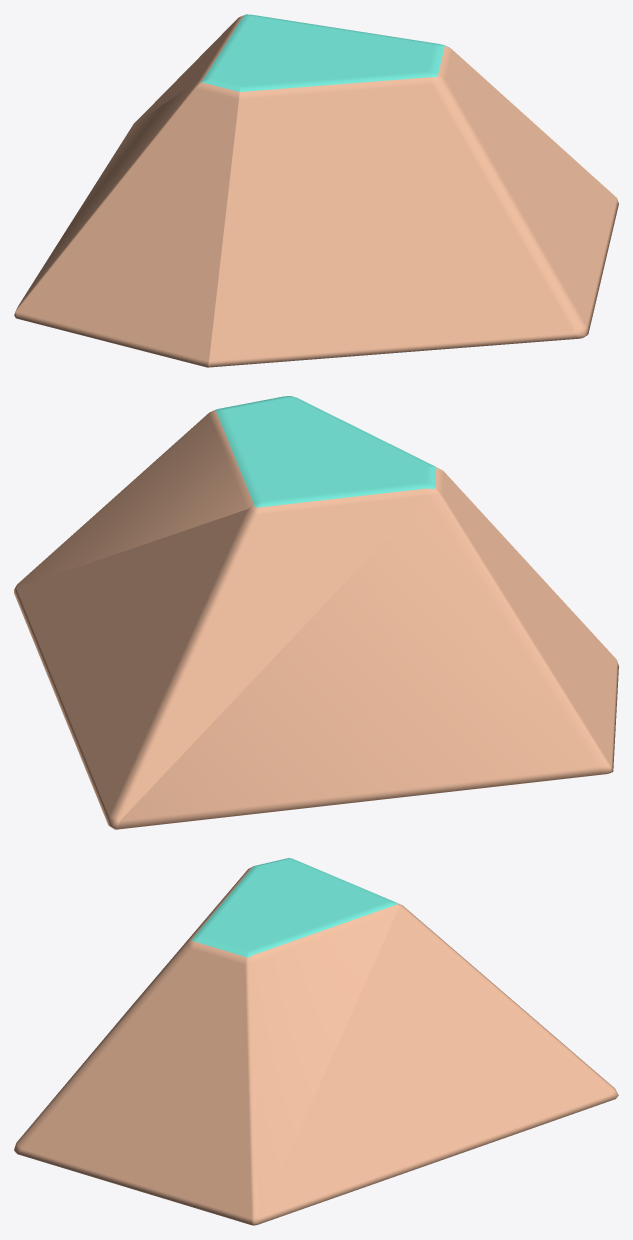
The model's file is rock_smallC.glb.
3 renders of one model, top to bottom at view 1: azimuth 30°, elevation 25°; view 2: azimuth 150°, elevation 25°; view 3: azimuth 270°, elevation 25°, orthographic. The views are drawn at different scales.
Parts seen in each view (by area): view 1: rock_smallC; view 2: rock_smallC; view 3: rock_smallC.
Part boxes in pixels (left/top/right/bottom): rock_smallC: left=14, top=14, right=618, bottom=367; rock_smallC: left=14, top=396, right=618, bottom=829; rock_smallC: left=14, top=858, right=618, bottom=1225.
Bounding box in the file's own units: 0.3524 × 0.1227 × 0.3498.
